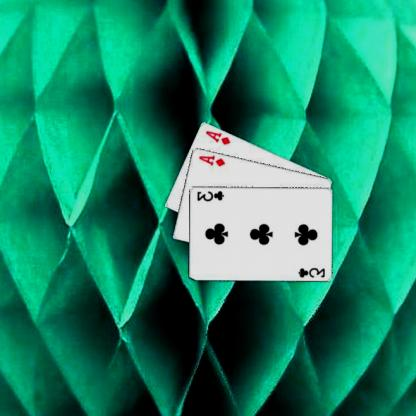3C: (297, 265, 328, 279), (196, 188, 226, 202)
AD: (205, 128, 233, 145), (198, 152, 227, 168)
